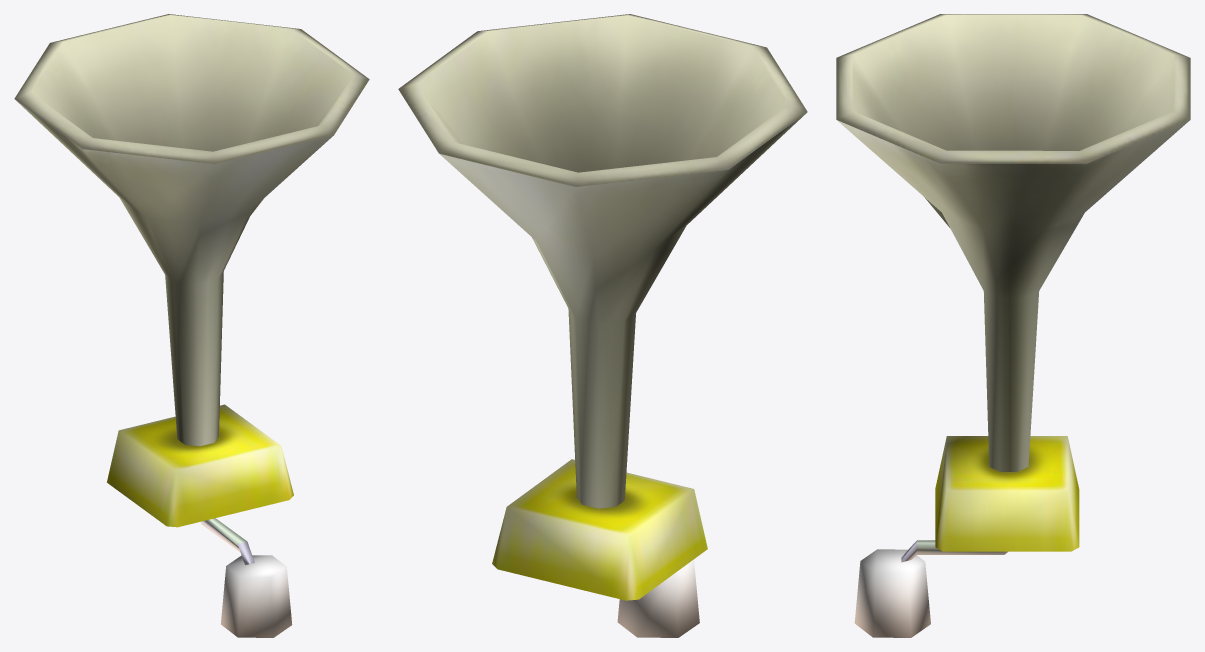
File: aoogah.glb
3 views of the same model, side by side, from view 1: azimuth 30°, elevation 25°; view 2: azimuth 150°, elevation 25°; view 3: azimuth 270°, elevation 25° (orthographic). The views are drawn at different scales.
Visible parts, largest first — view 1: inside, outside, square, handle; view 2: inside, outside, square, handle; view 3: inside, outside, square, handle.
Part boxes in pixels (box(x1,y1,x2,y2)): inside: box(14, 14, 369, 224); outside: box(16, 100, 333, 446); square: box(107, 404, 293, 527); handle: box(201, 518, 292, 637); inside: box(398, 14, 807, 186); outside: box(440, 113, 806, 508); square: box(492, 459, 707, 600); handle: box(617, 559, 699, 637); inside: box(836, 14, 1190, 227); outside: box(837, 120, 1189, 471); square: box(935, 436, 1079, 551); handle: box(854, 540, 1007, 637).
Size of the model in its own units: 3.05 by 5.1 by 3.05.
Materials: 4 (3 with a texture image).
